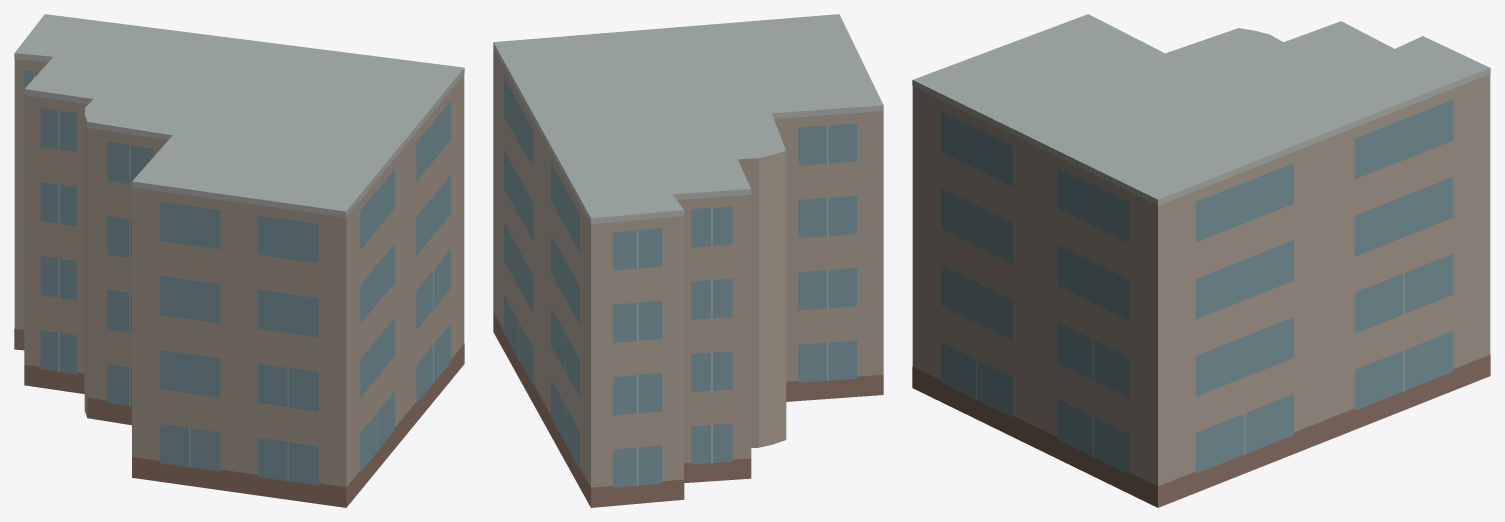
The model's file is survey-upis-32784259.glb.
3 views of the same model, side by side, from view 1: azimuth 30°, elevation 25°; view 2: azimuth 150°, elevation 25°; view 3: azimuth 270°, elevation 25° (orthographic). The views are drawn at different scales.
Visible parts, largest first — view 1: survey-upis-32784259.tmp; view 2: survey-upis-32784259.tmp; view 3: survey-upis-32784259.tmp.
Boxes of the visible parts, box(x1,y1,x2,y2) form: survey-upis-32784259.tmp: box(14, 14, 464, 507); survey-upis-32784259.tmp: box(493, 14, 883, 507); survey-upis-32784259.tmp: box(912, 14, 1490, 507).
Bounding box in the file's own units: 15.78 × 12.2 × 20.74.
